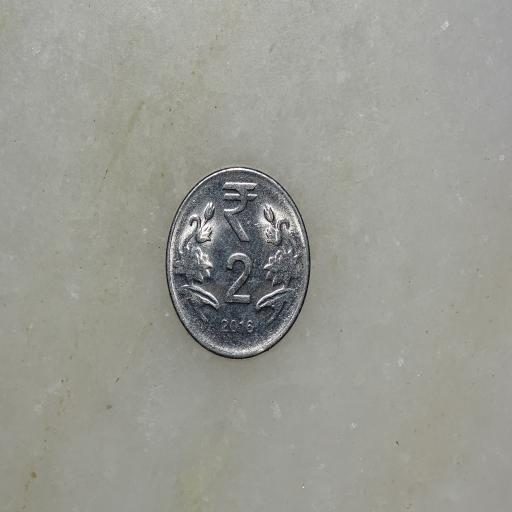rupee2: (162, 167, 312, 360)
